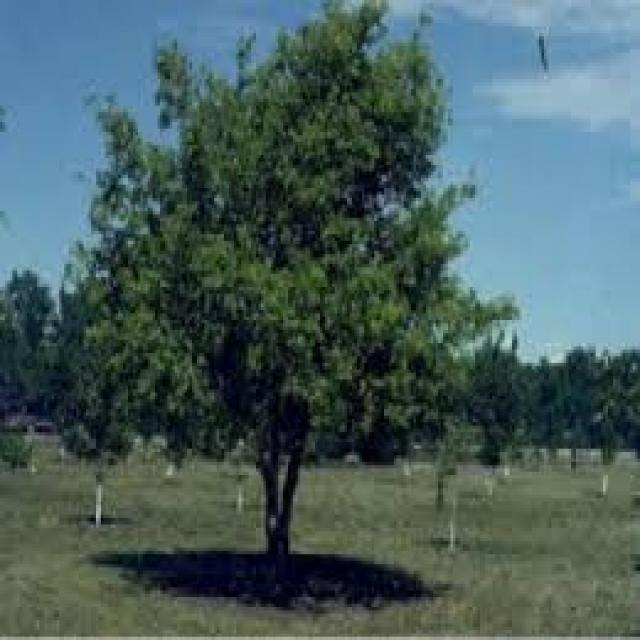Tree: (113, 1, 453, 614)
